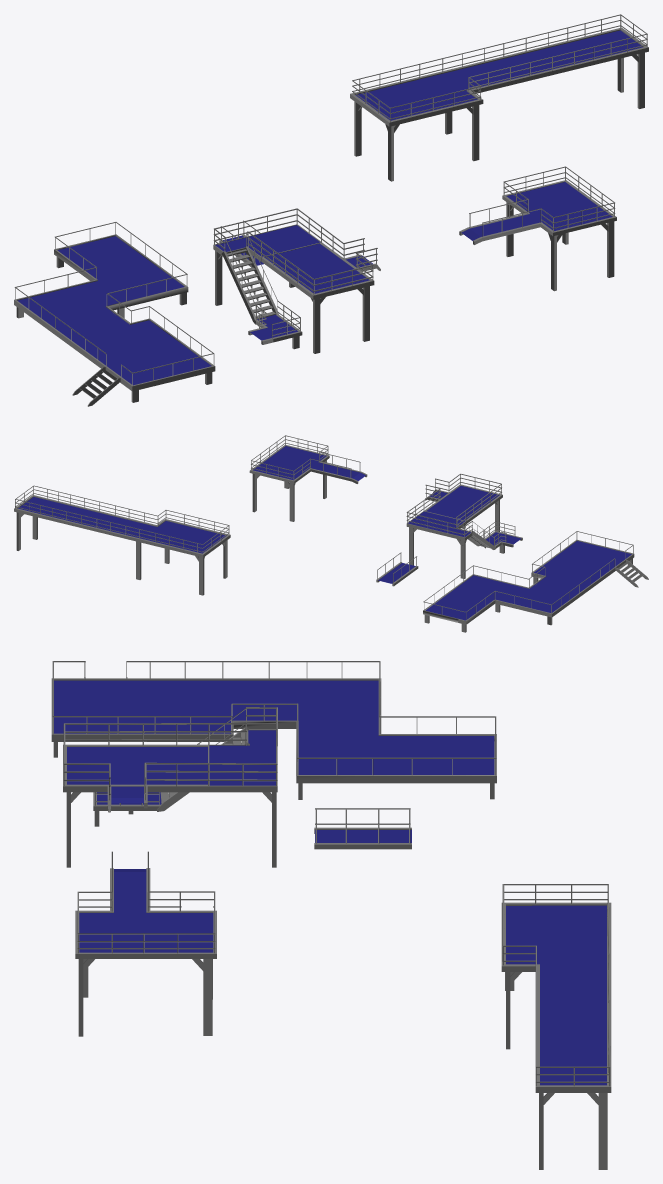
File: Platform_V2.FBX
3 renders of one model, top to bottom at view 1: azimuth 30°, elevation 25°; view 2: azimuth 150°, elevation 25°; view 3: azimuth 270°, elevation 25°, orthographic. The views are drawn at different scales.
Visible parts, largest first — view 1: Object052, Box054; view 2: Object052, Box054; view 3: Object052, Box054.
Part boxes in pixels (bbox=[...]): Object052: bbox=[18, 30, 642, 385]; Box054: bbox=[14, 14, 648, 406]; Object052: bbox=[18, 446, 631, 620]; Box054: bbox=[14, 435, 648, 632]; Object052: bbox=[54, 680, 606, 1085]; Box054: bbox=[51, 661, 611, 1169].
Bounding box in the file's own units: 5103 × 538 × 2457.
